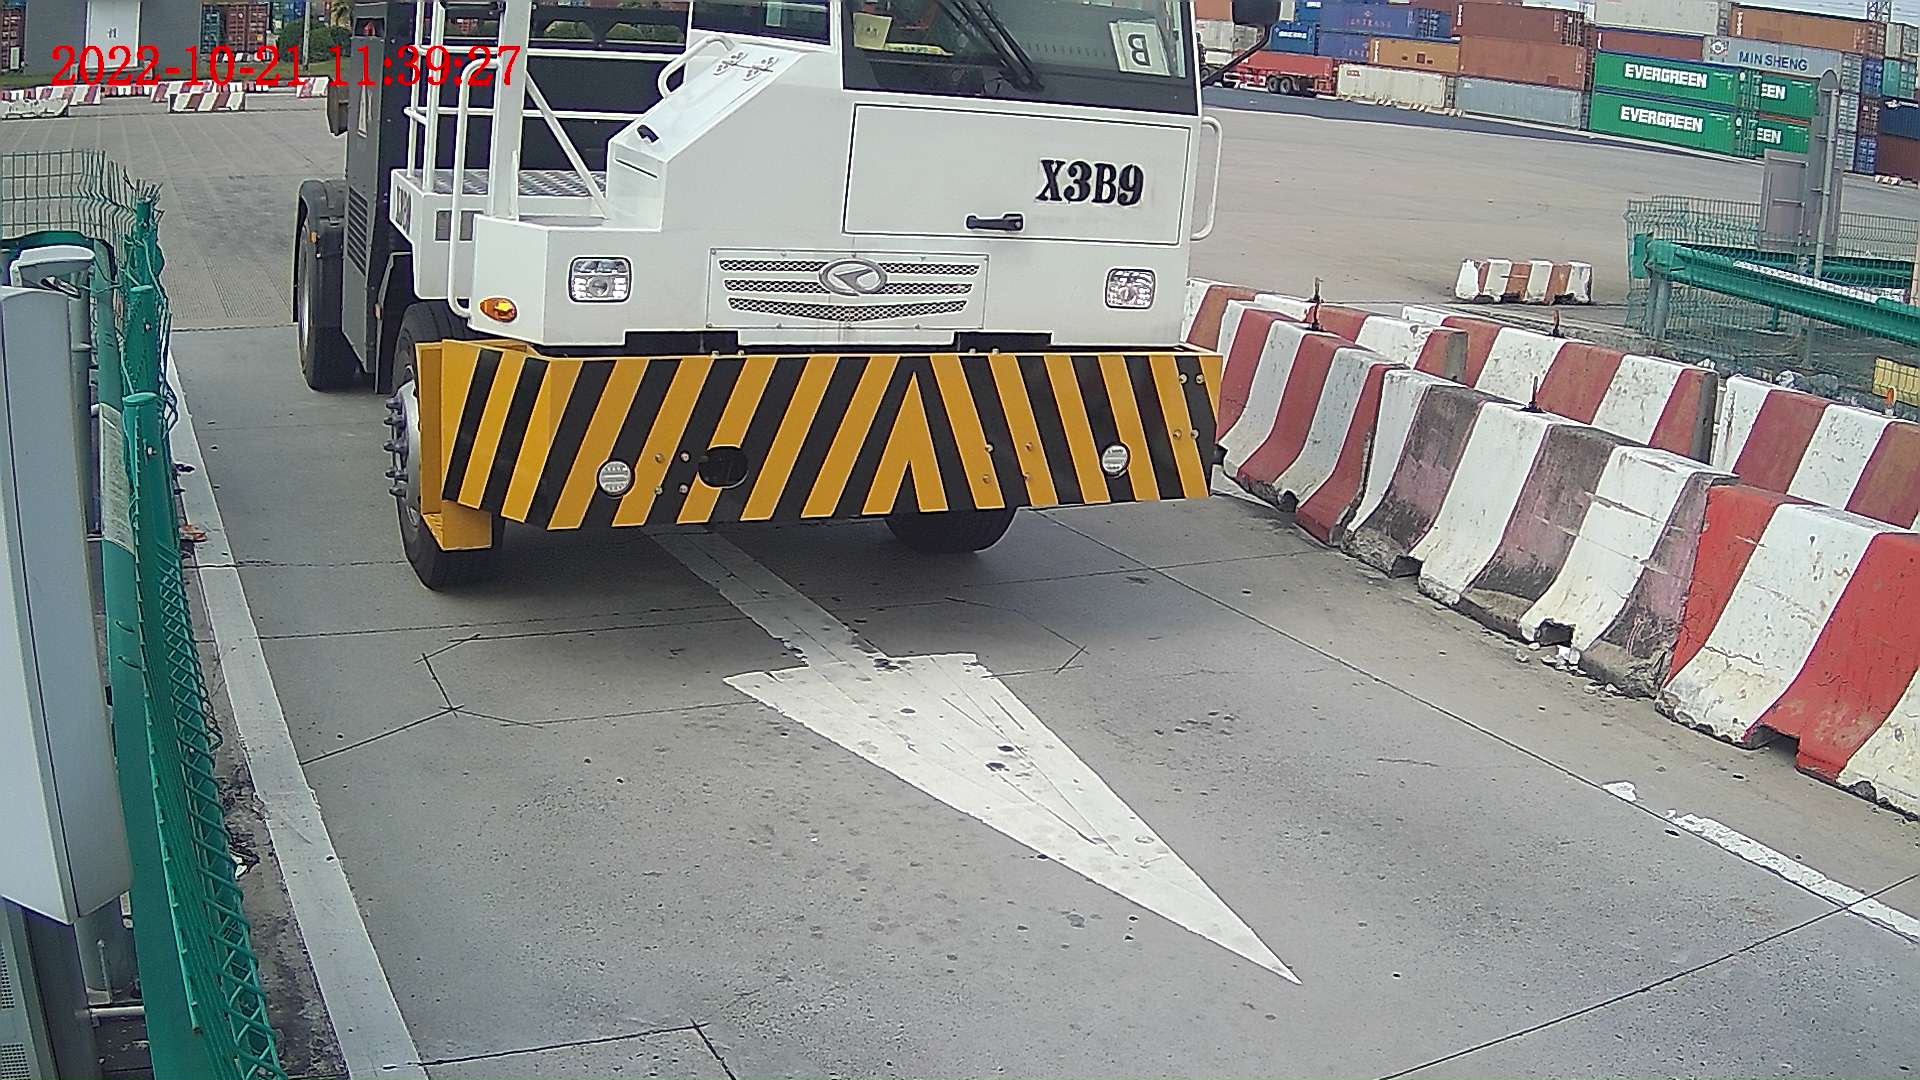head: (404, 1, 1274, 594)
